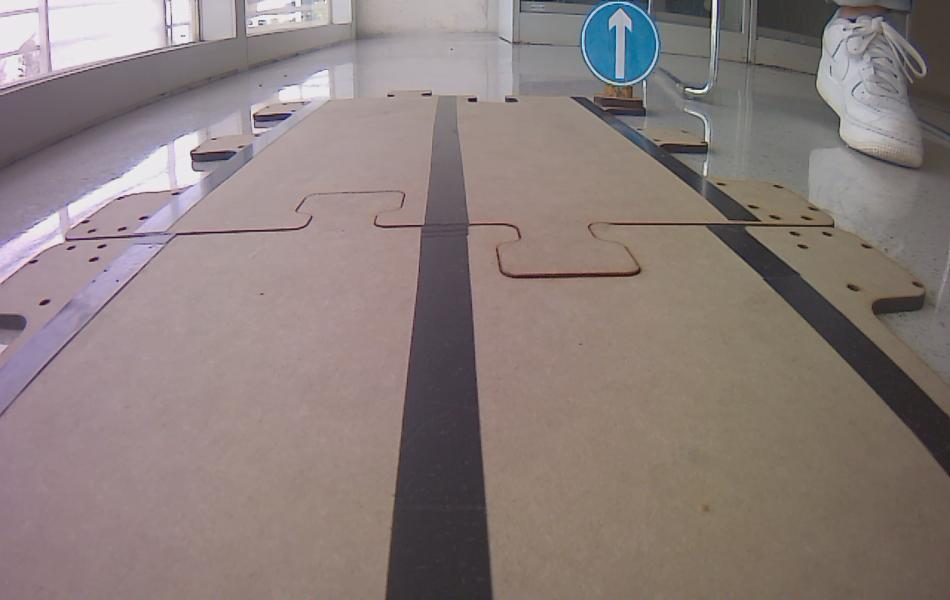straight: (579, 0, 663, 86)
